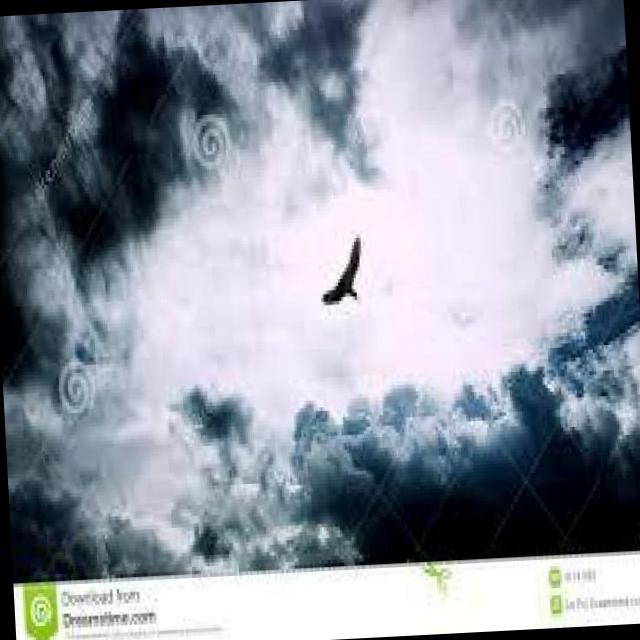bird: (317, 232, 367, 316)
